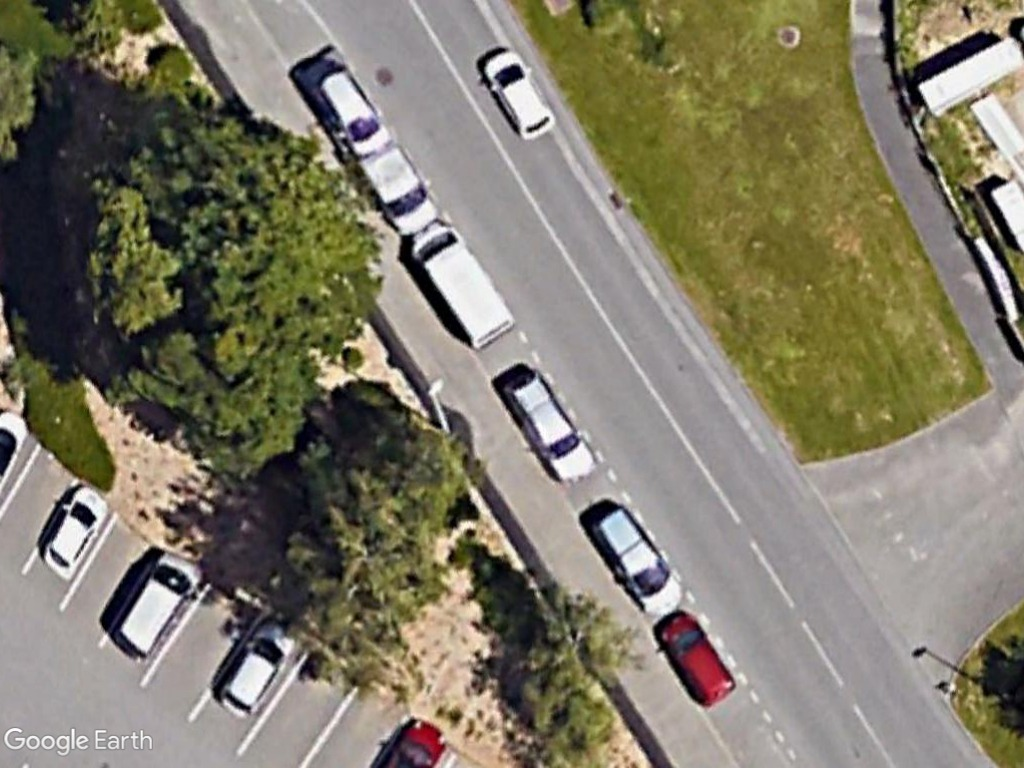car: (590, 498, 685, 618), (109, 548, 205, 663), (504, 368, 598, 484), (651, 611, 739, 713), (214, 619, 300, 721), (480, 43, 559, 141), (37, 483, 114, 581), (315, 65, 392, 160)
van: (405, 217, 519, 351), (356, 141, 447, 235)
